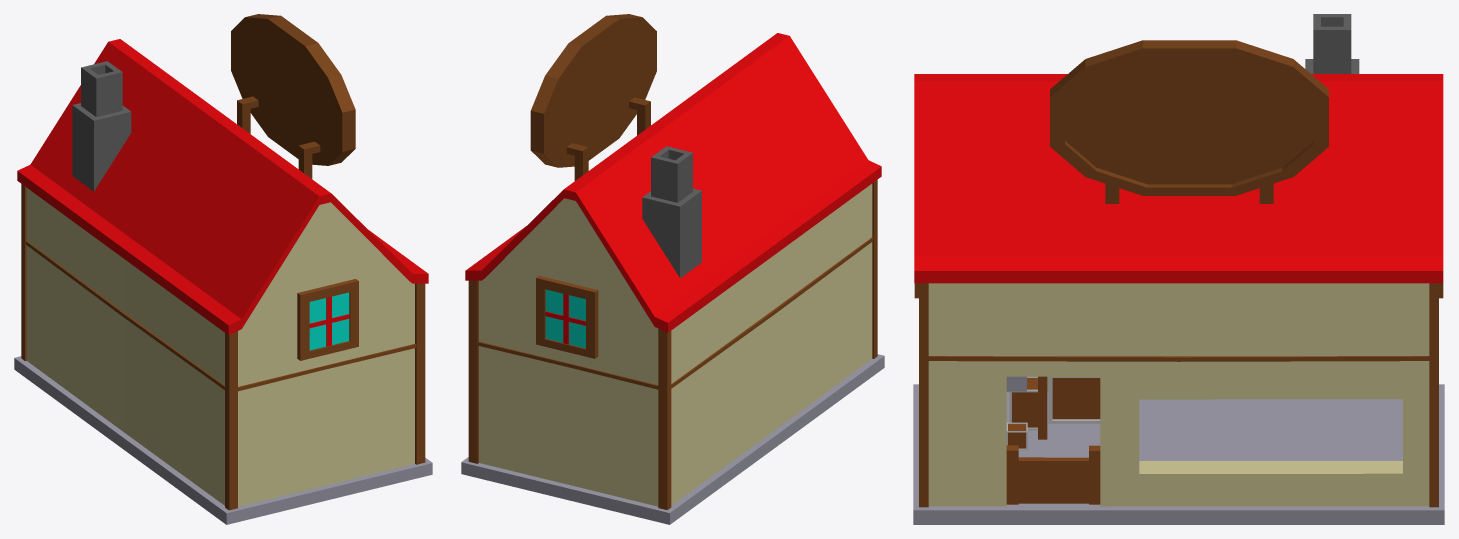
Rendered from magic shop.fbx.
The picture shows the model from 3 angles, left to right: view 1: azimuth 30°, elevation 25°; view 2: azimuth 150°, elevation 25°; view 3: azimuth 270°, elevation 25°; orthographic projection. The views are drawn at different scales.
Visible parts, largest first — view 1: house, emblem.005, window.003; view 2: house, emblem.005, window.003; view 3: house, emblem.005, crates.003.
Part boxes in pixels (x1=…): house: x1=14, y1=39, x2=432, y2=524; emblem.005: x1=231, y1=14, x2=355, y2=178; window.003: x1=297, y1=279, x2=358, y2=360; house: x1=461, y1=33, x2=884, y2=524; emblem.005: x1=530, y1=14, x2=656, y2=180; window.003: x1=536, y1=276, x2=598, y2=358; house: x1=913, y1=14, x2=1444, y2=524; emblem.005: x1=1050, y1=40, x2=1328, y2=203; crates.003: x1=1006, y1=376, x2=1100, y2=450.
Size of the model in its own units: 4.04 by 6.92 by 7.2.
